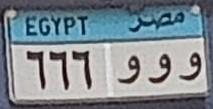6: (71, 47, 95, 91), (48, 49, 70, 91), (25, 45, 46, 88)
waw: (115, 51, 142, 87), (146, 53, 173, 85), (179, 51, 202, 85)
